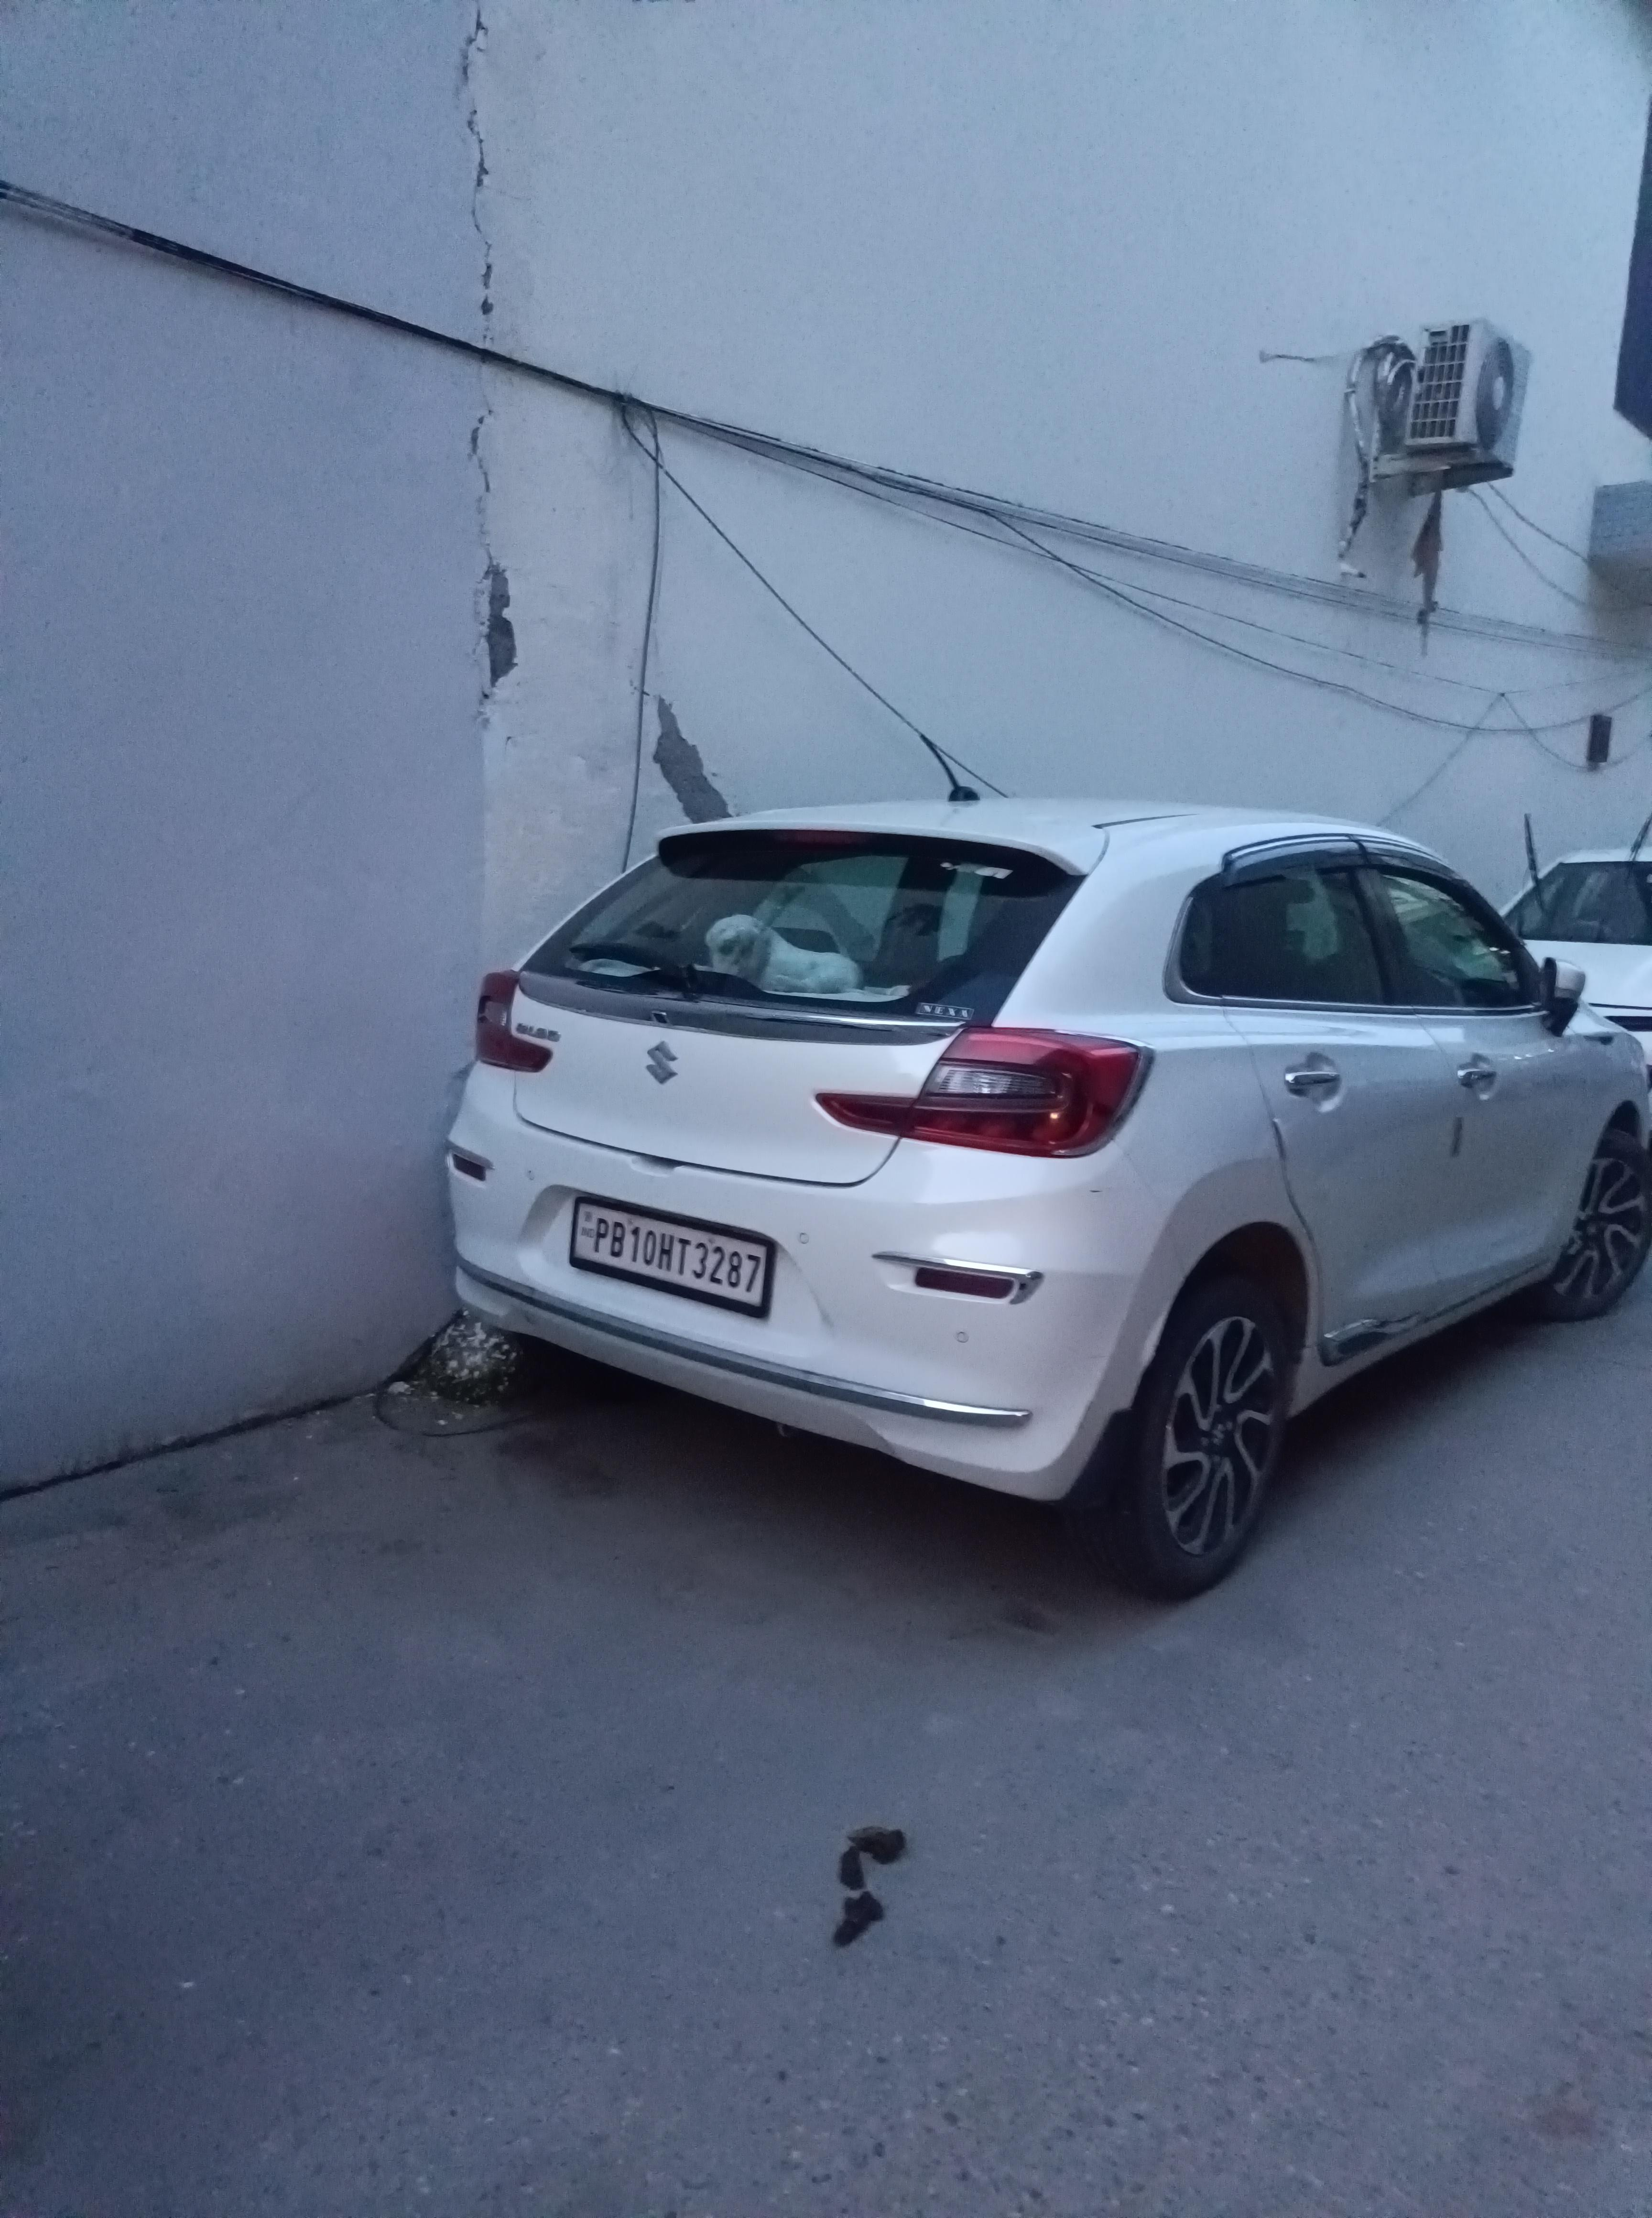license_plate: (559, 1186, 800, 1324)
